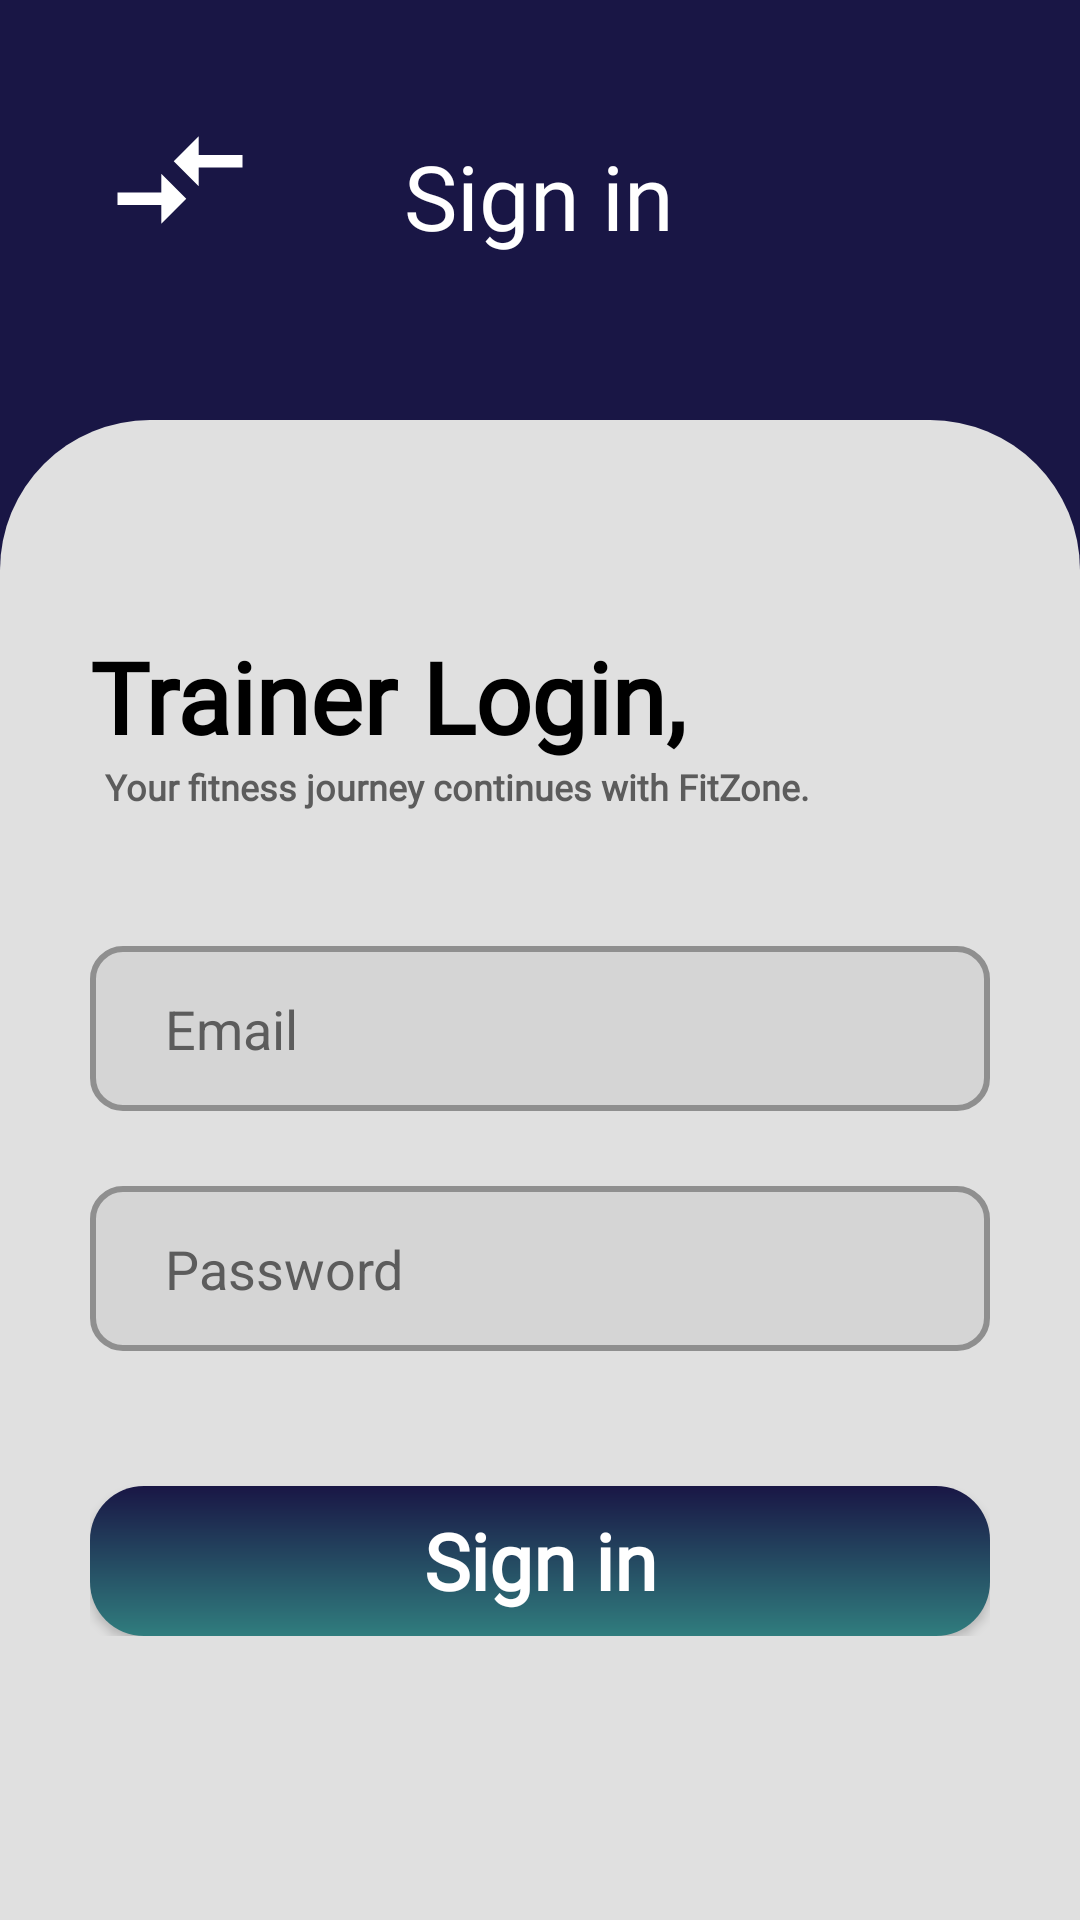

Screen size 1080×1920. Icon name, then its box in pixels as (x1, y1, x2, y2):
compare arrows: (117, 136, 243, 224)
